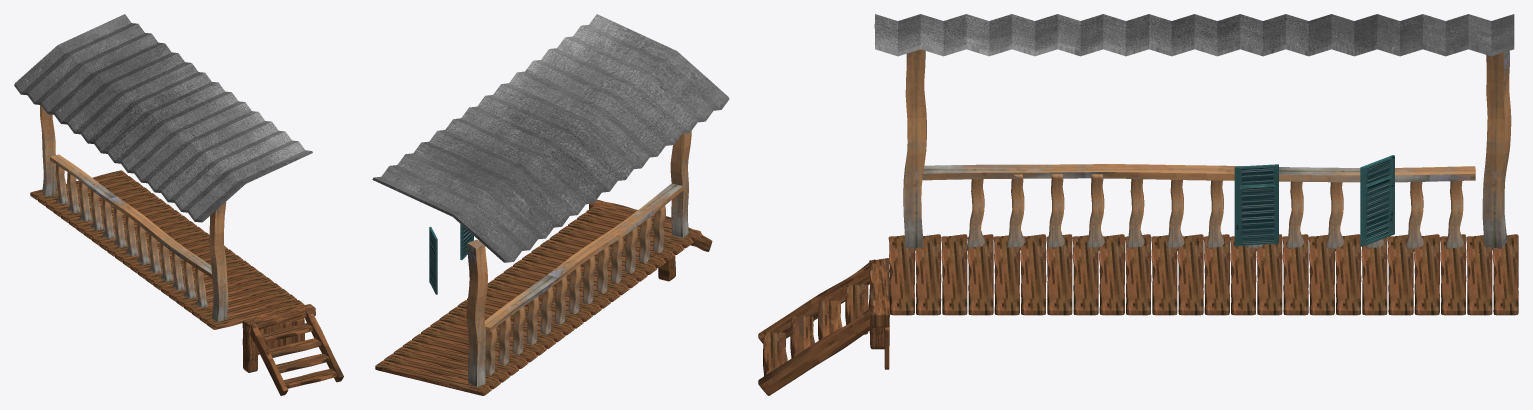
File: house_extra.fbx
3 renders of one model, left to right at view 1: azimuth 30°, elevation 25°; view 2: azimuth 150°, elevation 25°; view 3: azimuth 270°, elevation 25°, orthographic. The views are drawn at different scales.
Parts seen in each view (by area): view 1: Cube.001, Cube.008, Cube.011, Cube.010, Cube.006, Cube.009, Cube.013, Cube.003, Cube.004, Cube.005, Cube.007, Cube.002; view 2: Cube.001, Cube.008, Cube.011, Cube.010, Cube.013, Cube.009, Cube.024, Cube.003, Cube.002; view 3: Cube.008, Cube.001, Cube.011, Cube.010, Cube.013, Cube.009, Cube.023, Cube.006, Cube.024, Cube.005, Cube.004, Cube.003.
Boxes of the visible parts, x1=… form: Cube.001: x1=14, y1=14, x2=312, y2=222; Cube.008: x1=30, y1=170, x2=304, y2=329; Cube.011: x1=55, y1=164, x2=207, y2=307; Cube.010: x1=50, y1=154, x2=213, y2=279; Cube.006: x1=261, y1=323, x2=338, y2=388; Cube.009: x1=209, y1=202, x2=228, y2=321; Cube.013: x1=40, y1=105, x2=56, y2=196; Cube.003: x1=242, y1=304, x2=315, y2=331; Cube.004: x1=249, y1=321, x2=288, y2=395; Cube.005: x1=305, y1=307, x2=343, y2=382; Cube.007: x1=258, y1=318, x2=304, y2=354; Cube.002: x1=242, y1=329, x2=258, y2=372; Cube.001: x1=372, y1=14, x2=729, y2=262; Cube.008: x1=375, y1=206, x2=702, y2=395; Cube.011: x1=485, y1=206, x2=665, y2=375; Cube.010: x1=485, y1=183, x2=684, y2=332; Cube.013: x1=466, y1=239, x2=487, y2=386; Cube.009: x1=670, y1=131, x2=691, y2=237; Cube.024: x1=429, y1=227, x2=437, y2=294; Cube.003: x1=589, y1=199, x2=671, y2=223; Cube.002: x1=658, y1=256, x2=675, y2=281; Cube.008: x1=888, y1=234, x2=1518, y2=315; Cube.001: x1=874, y1=14, x2=1514, y2=56; Cube.011: x1=967, y1=174, x2=1463, y2=251; Cube.010: x1=921, y1=164, x2=1475, y2=182; Cube.013: x1=1482, y1=51, x2=1511, y2=250; Cube.009: x1=903, y1=49, x2=926, y2=250; Cube.023: x1=1234, y1=164, x2=1278, y2=246; Cube.006: x1=763, y1=284, x2=869, y2=375; Cube.024: x1=1360, y1=155, x2=1394, y2=246; Cube.005: x1=758, y1=305, x2=876, y2=395; Cube.004: x1=758, y1=259, x2=876, y2=344; Cube.003: x1=869, y1=258, x2=889, y2=327.
Bounding box in the file's own units: 79.21 × 138 × 269.
9 materials, 9 textured.
